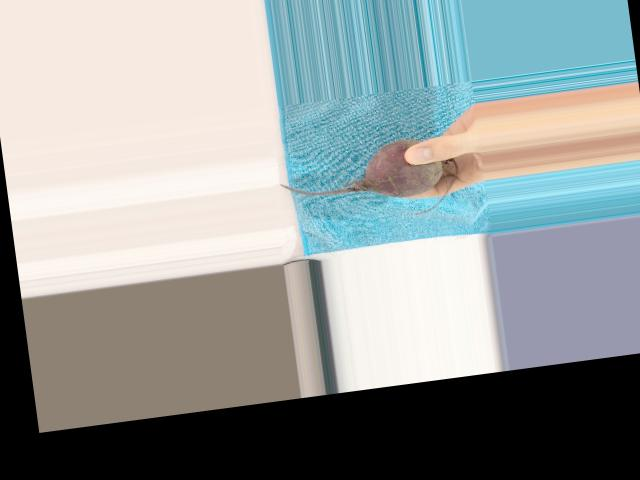beet: (275, 132, 462, 230)
